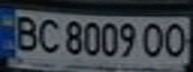0: (81, 19, 103, 57), (100, 19, 121, 57)
8: (60, 18, 84, 56)
9: (118, 20, 142, 60)
B: (9, 12, 42, 52)
C: (33, 16, 63, 55)
O: (160, 19, 190, 60), (139, 20, 169, 60)
